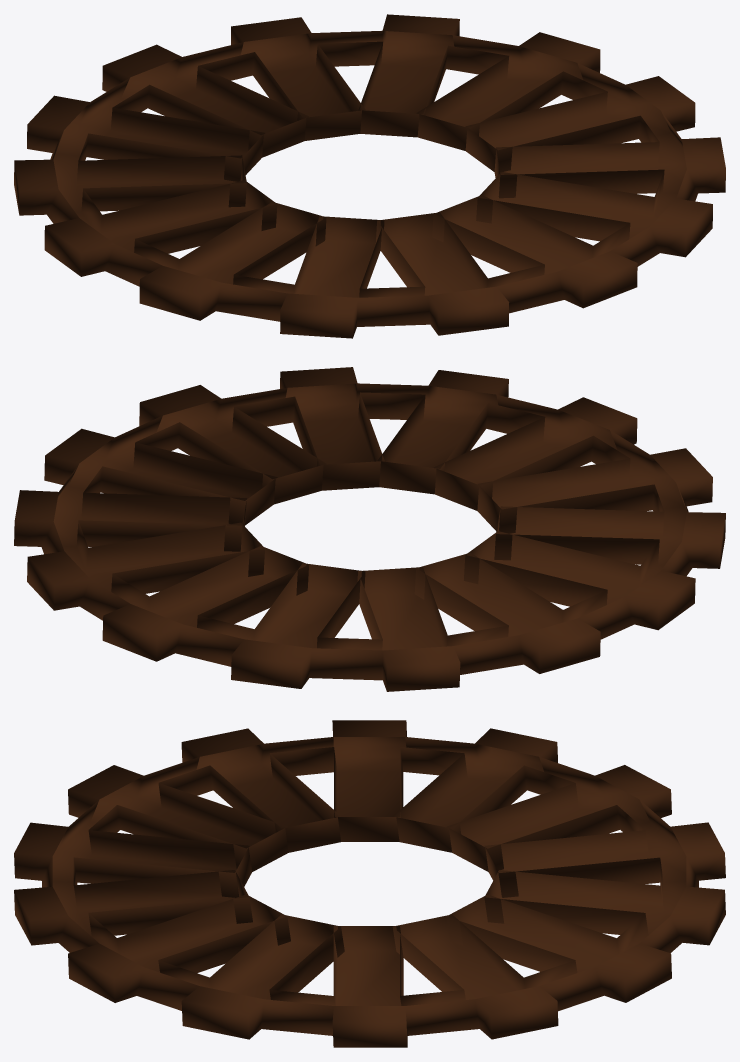
Rendered from BossGear01.fbx.
3 renders of one model, top to bottom at view 1: azimuth 30°, elevation 25°; view 2: azimuth 150°, elevation 25°; view 3: azimuth 270°, elevation 25°, orthographic.
Parts seen in each view (by area): view 1: shesterenka_low.003; view 2: shesterenka_low.003; view 3: shesterenka_low.003.
Boxes of the visible parts, <box> form: shesterenka_low.003: <box>14,14,725,338</box>; shesterenka_low.003: <box>14,367,725,691</box>; shesterenka_low.003: <box>14,720,725,1047</box>.
Size of the model in its own units: 13867 by 534 by 13789.
